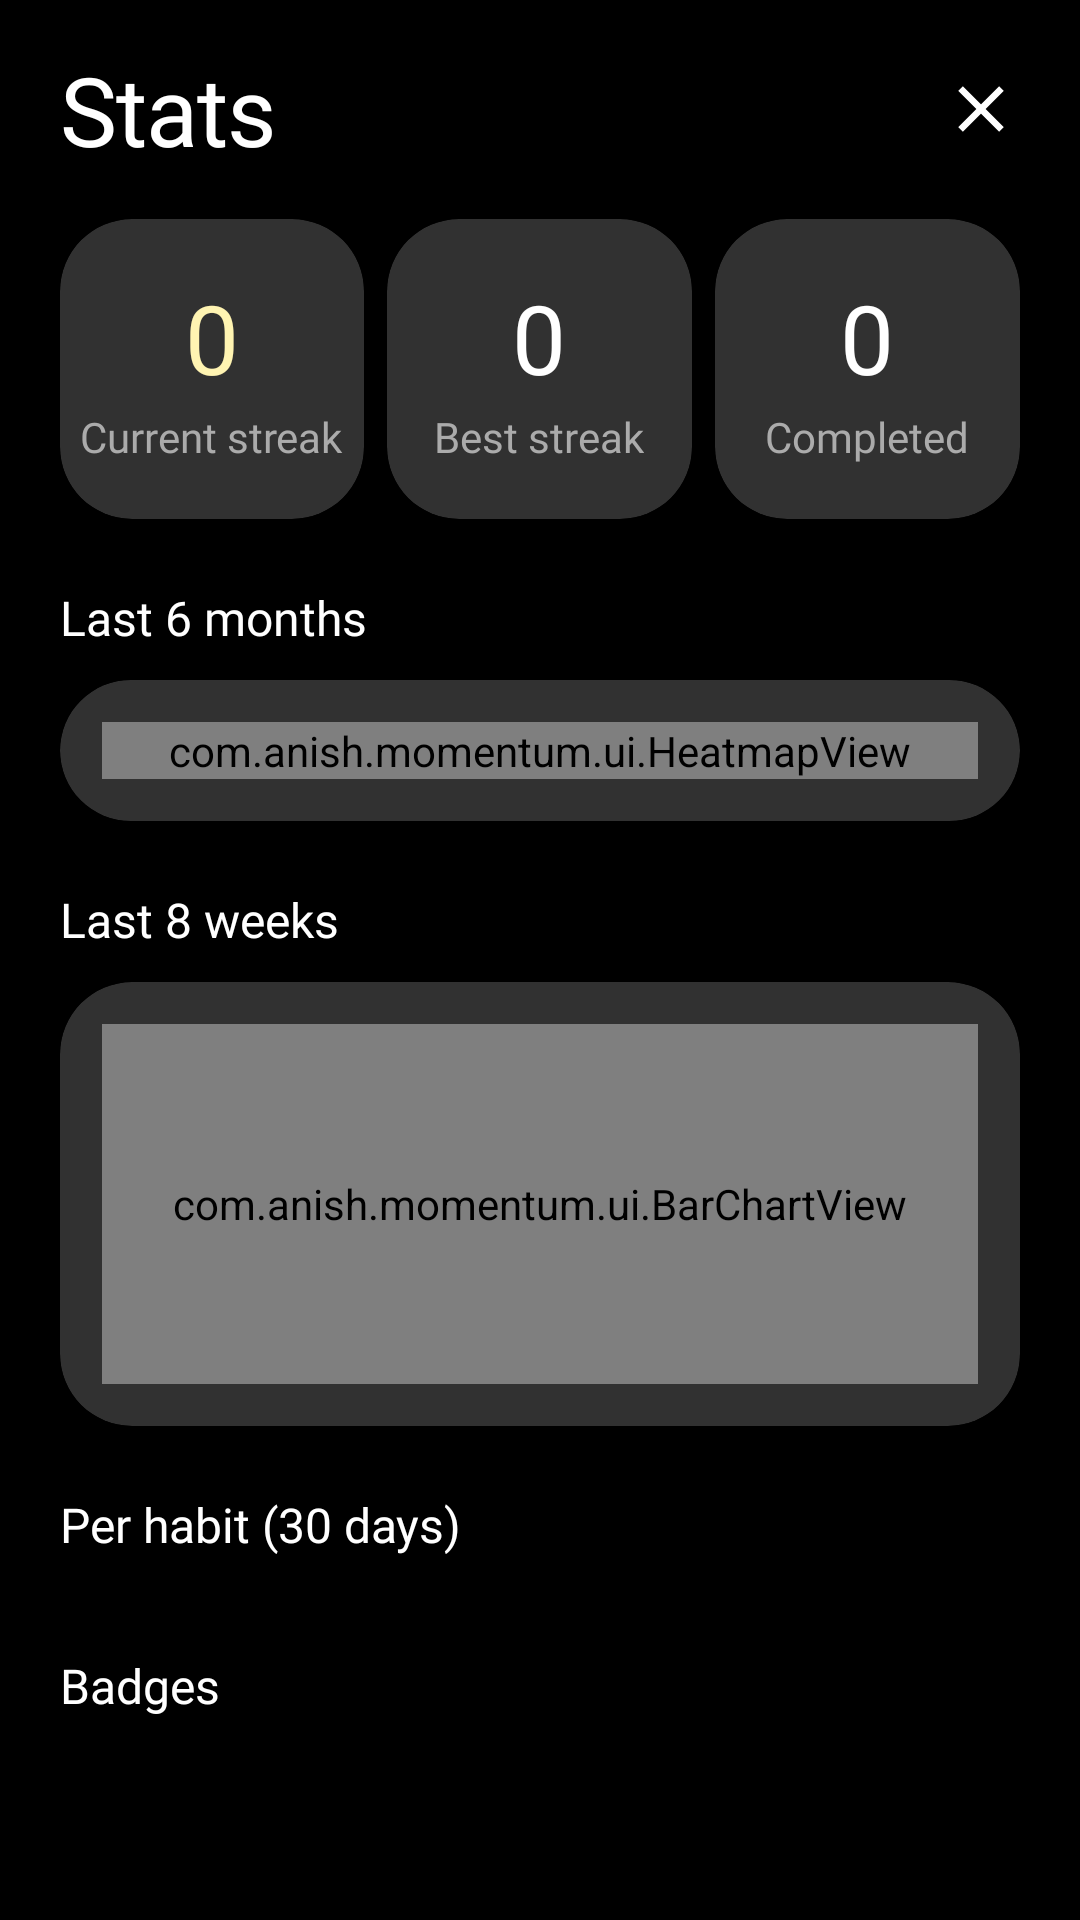

Icon bounding boxes for this 1080 x 1920 phone screenshot, format (x1, y1, x2, y2):
Close: (958, 86, 1004, 132)
